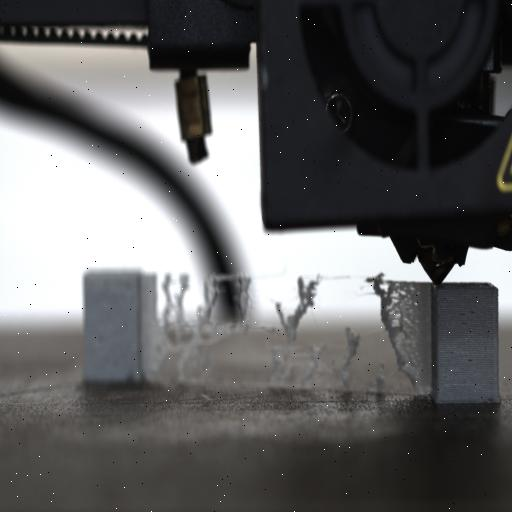stringing: (264, 274, 342, 390), (364, 273, 428, 395), (201, 272, 251, 328), (140, 272, 162, 382), (160, 271, 192, 341)
